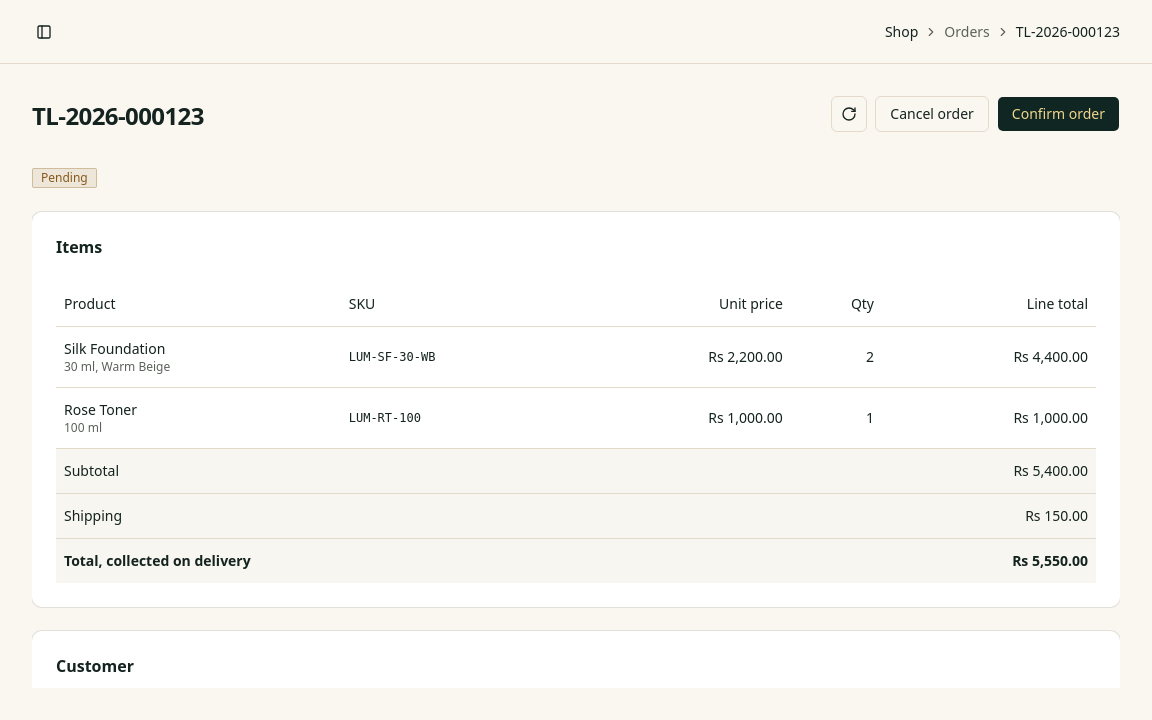
order actions › marks the dashboard stale after a move
Click the button "Confirm order".
click(1058, 114)  # box [997,96,1120,132]
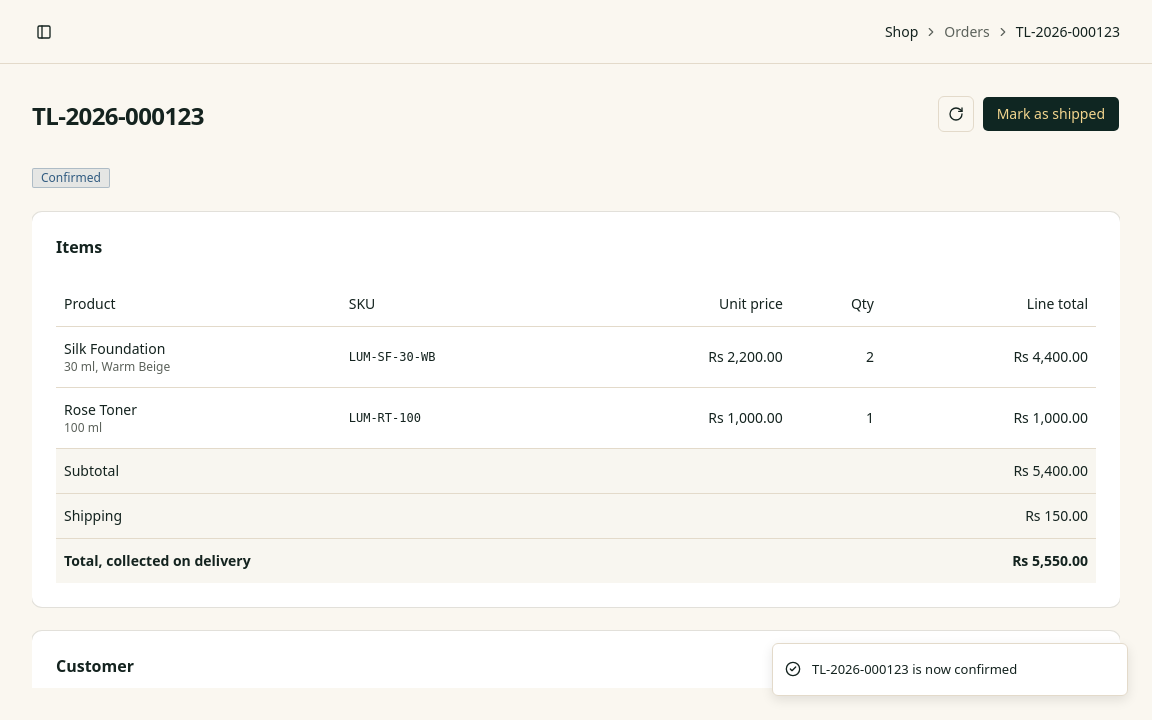
Expected: the button "Mark as shipped" is shown, [982,96,1120,132]
